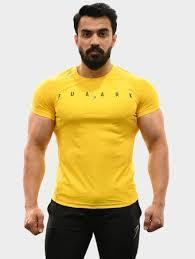Tshirt: (31, 65, 163, 212)
